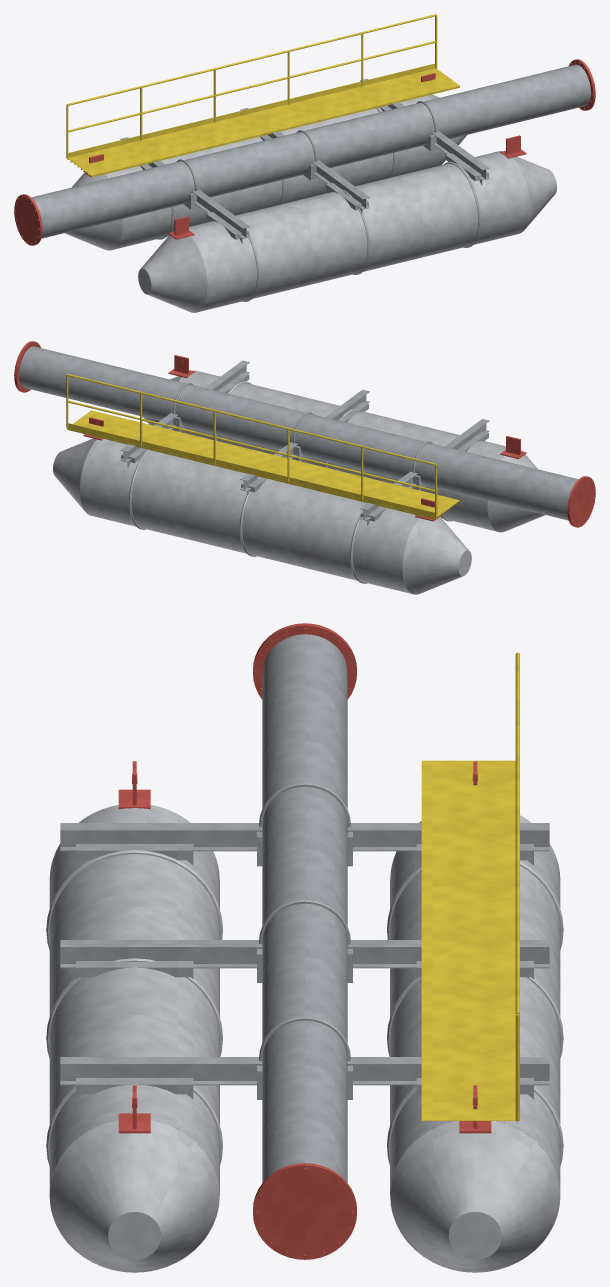
The model's file is dredge-pipeline-pontoons.glb.
3 renders of one model, top to bottom at view 1: azimuth 30°, elevation 25°; view 2: azimuth 150°, elevation 25°; view 3: azimuth 270°, elevation 25°, orthographic. The views are drawn at different scales.
Parts seen in each view (by area): view 1: Floats, DischargePipe, Walkway&Handrail, SaddleFrames, Flanges&Bolts, LiftingLugs; view 2: Floats, DischargePipe, Walkway&Handrail, SaddleFrames, Flanges&Bolts, LiftingLugs; view 3: Floats, DischargePipe, Walkway&Handrail, SaddleFrames, Flanges&Bolts, LiftingLugs.
Boxes of the visible parts, x1=… form: Floats: x1=65, y1=94, x2=556, y2=312; DischargePipe: x1=31, y1=64, x2=590, y2=238; Walkway&Handrail: x1=66, y1=14, x2=459, y2=177; SaddleFrames: x1=120, y1=78, x2=489, y2=243; Flanges&Bolts: x1=14, y1=59, x2=595, y2=245; LiftingLugs: x1=83, y1=73, x2=526, y2=239; Floats: x1=53, y1=370, x2=544, y2=594; DischargePipe: x1=19, y1=346, x2=578, y2=520; Walkway&Handrail: x1=66, y1=374, x2=459, y2=519; SaddleFrames: x1=120, y1=360, x2=489, y2=525; Flanges&Bolts: x1=14, y1=341, x2=595, y2=527; LiftingLugs: x1=83, y1=355, x2=526, y2=521; Floats: x1=46, y1=805, x2=563, y2=1272; DischargePipe: x1=262, y1=634, x2=347, y2=1182; Walkway&Handrail: x1=421, y1=652, x2=519, y2=1124; SaddleFrames: x1=60, y1=783, x2=549, y2=1099; Flanges&Bolts: x1=253, y1=623, x2=356, y2=1259; LiftingLugs: x1=118, y1=761, x2=491, y2=1133.
Size of the model in its own units: 12.09 by 2.96 by 4.86.
Materials: 4 (4 with a texture image).
